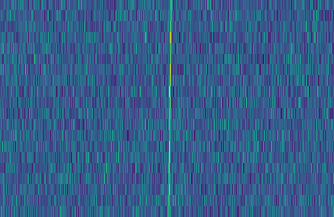signal: (164, 0, 175, 217)
